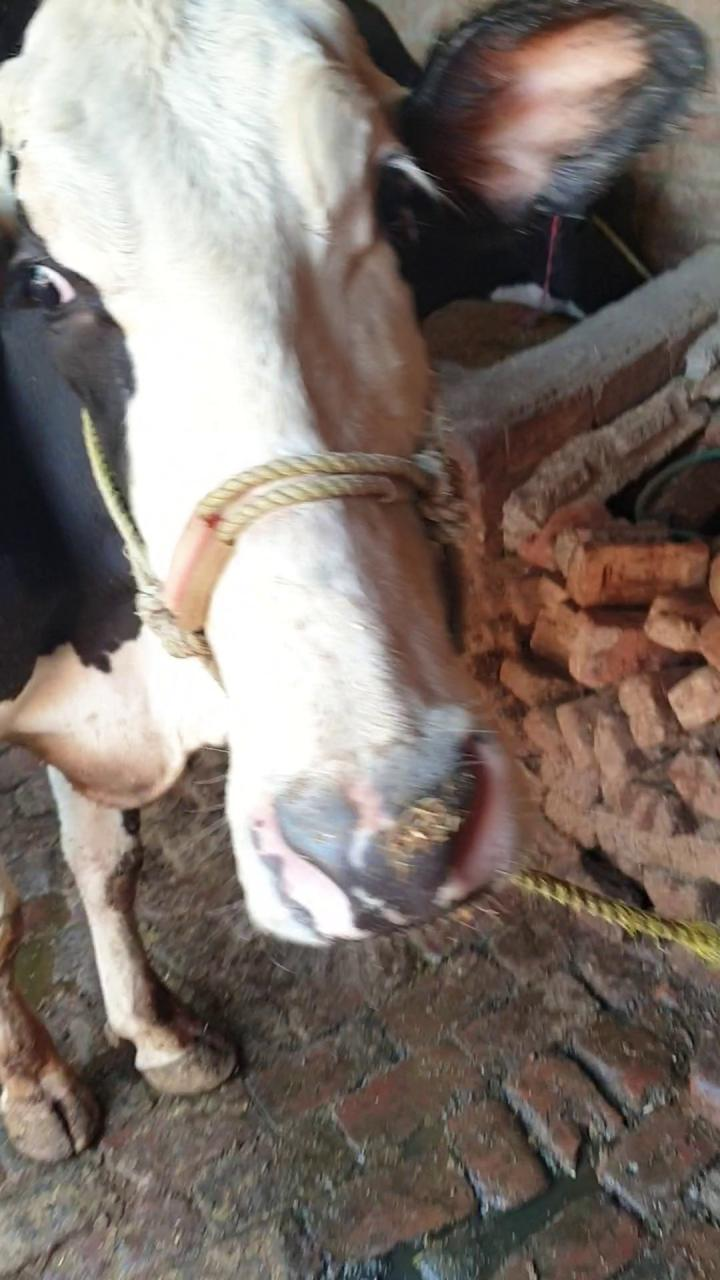cows: (0, 0, 562, 927)
